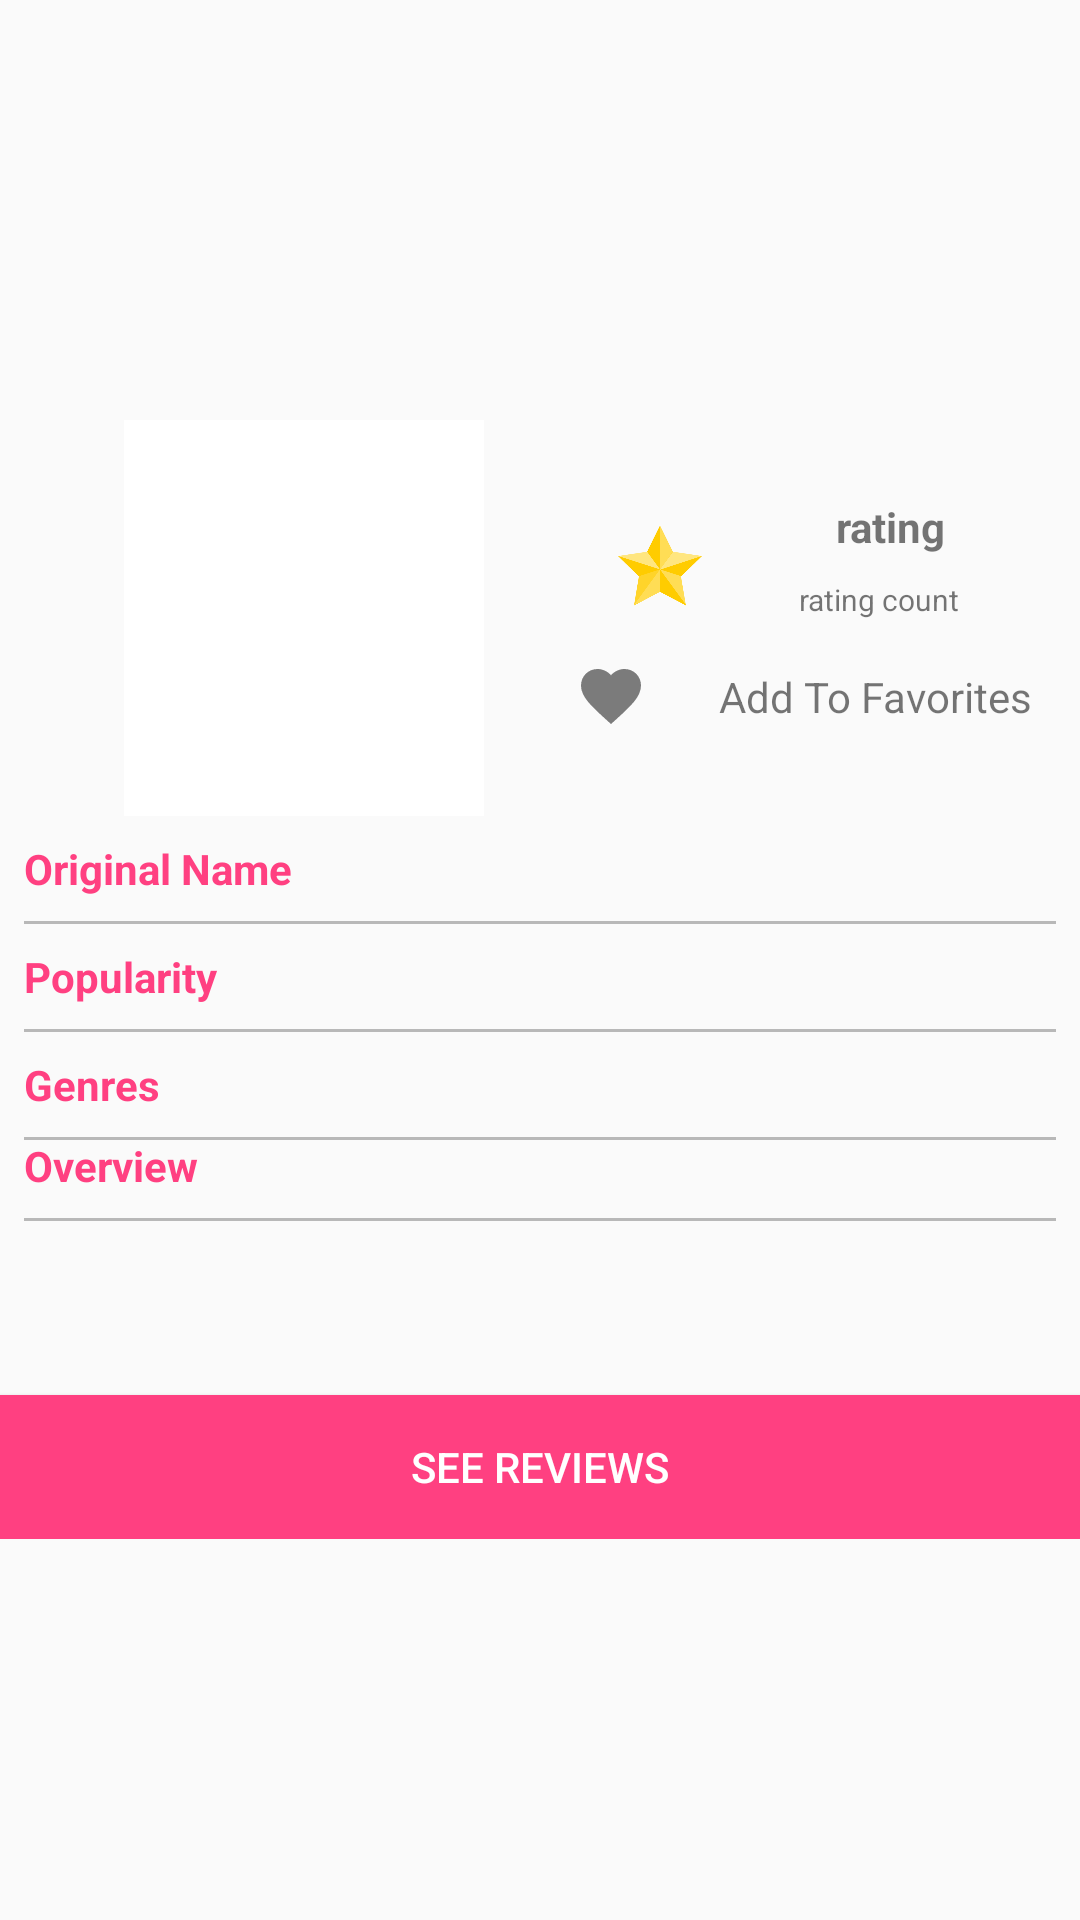

Where icons sit on this 1080px×1920px app screen, as (x1, y1, x2, y2):
fav: (581, 669, 641, 724)
star: (618, 526, 702, 606)
